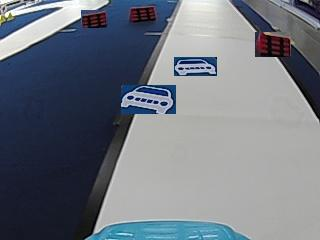bomb: (129, 4, 156, 21)
